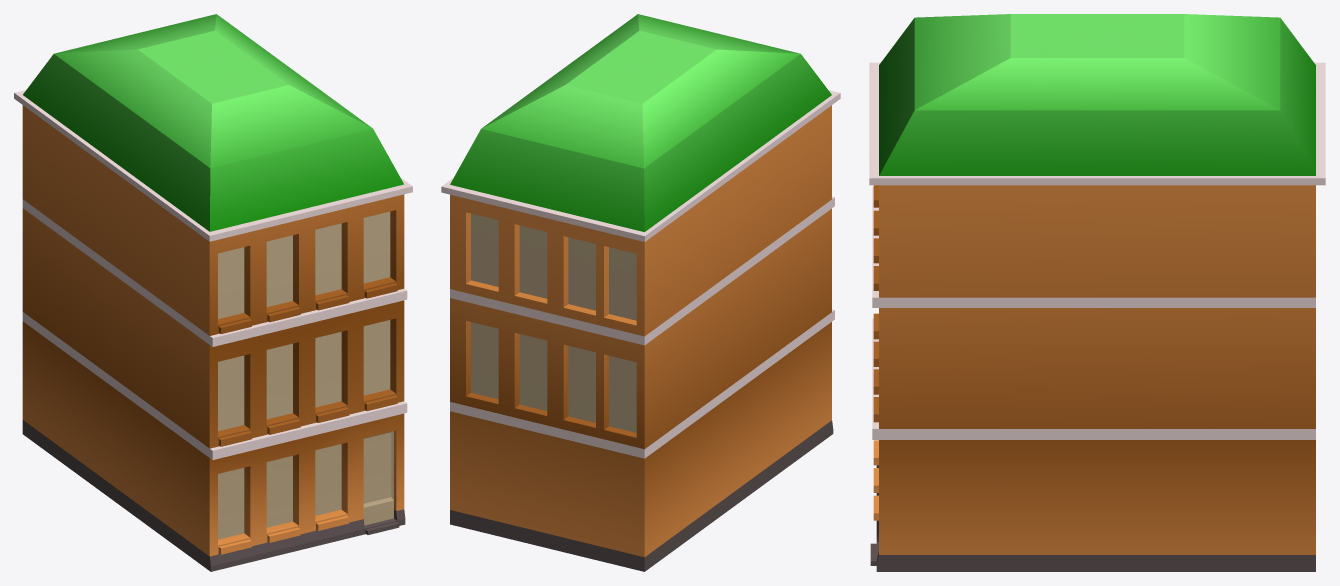
The model's file is Grachtenhuisje_Oranje.fbx.
The picture shows the model from 3 angles, left to right: view 1: azimuth 30°, elevation 25°; view 2: azimuth 150°, elevation 25°; view 3: azimuth 270°, elevation 25°; orthographic projection. The views are drawn at different scales.
Parts seen in each view (by area): view 1: Rijtjeshuis_Oranje; view 2: Rijtjeshuis_Oranje; view 3: Rijtjeshuis_Oranje.
Part boxes in pixels (box(x1,y1,x2,y2)): Rijtjeshuis_Oranje: box(14, 14, 412, 571); Rijtjeshuis_Oranje: box(441, 14, 840, 571); Rijtjeshuis_Oranje: box(869, 14, 1325, 571).
Size of the model in its own units: 627 by 1214 by 1045.
